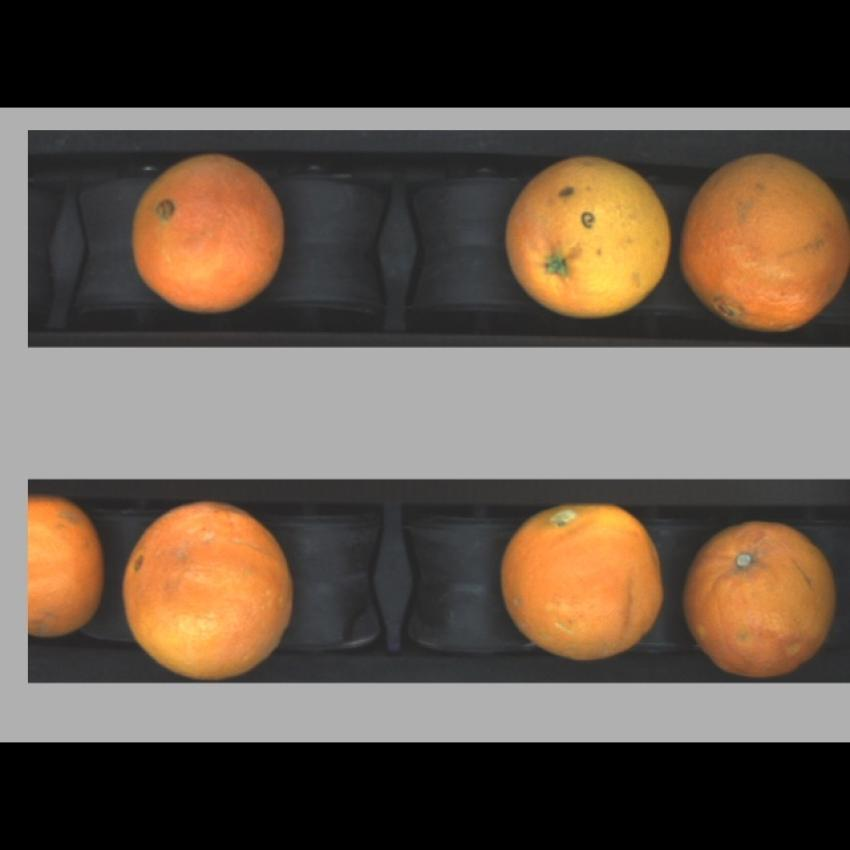Mal estado: (117, 489, 298, 677), (677, 150, 850, 335), (501, 152, 674, 318), (123, 145, 292, 314), (499, 500, 669, 663), (681, 516, 840, 674), (28, 493, 105, 647)
